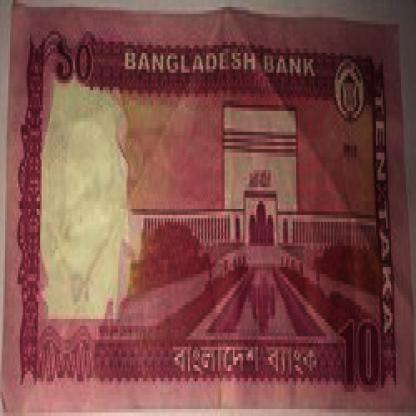Ten Taka: (334, 302, 384, 395), (50, 21, 106, 97)
